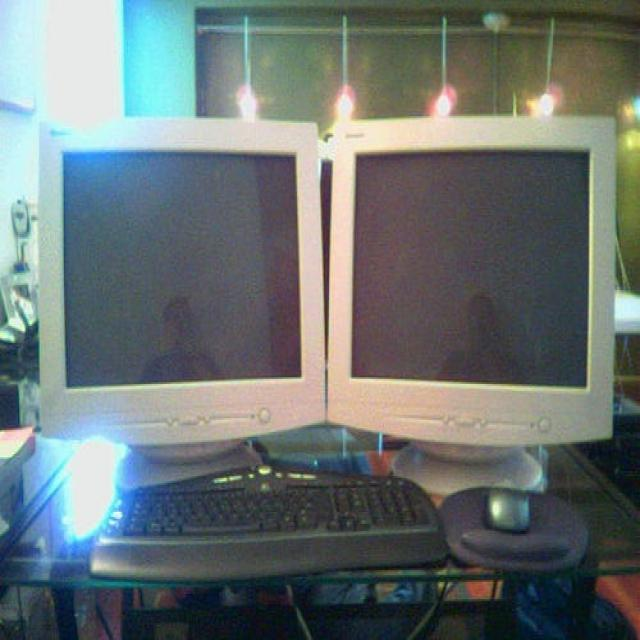tvmonitor: (329, 118, 614, 490), (36, 118, 326, 481)
